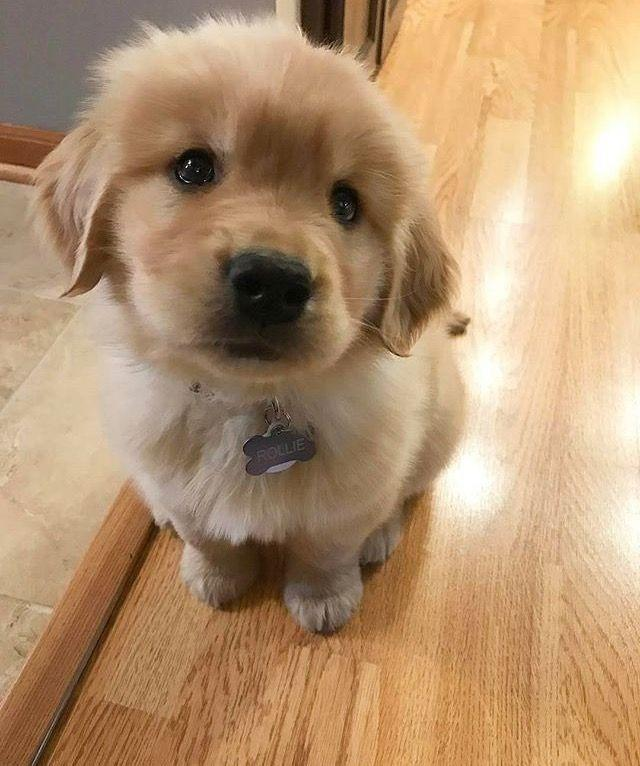puppy-dog: (19, 8, 475, 639)
